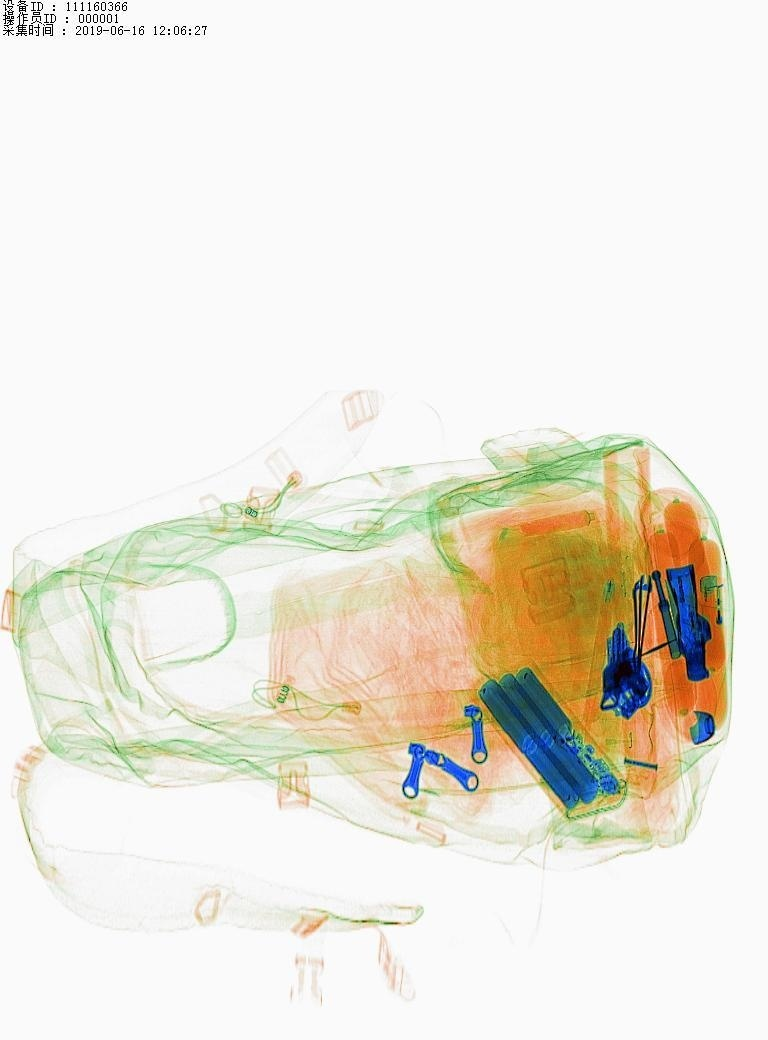NonmetallicFire: (686, 551, 757, 670)
